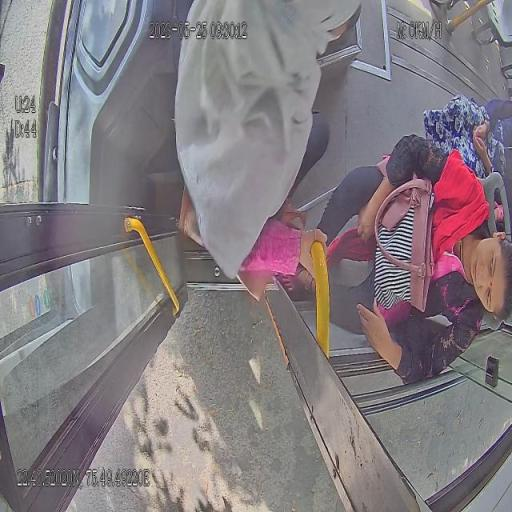persona: (291, 132, 511, 386), (174, 0, 360, 286), (422, 92, 512, 182)
